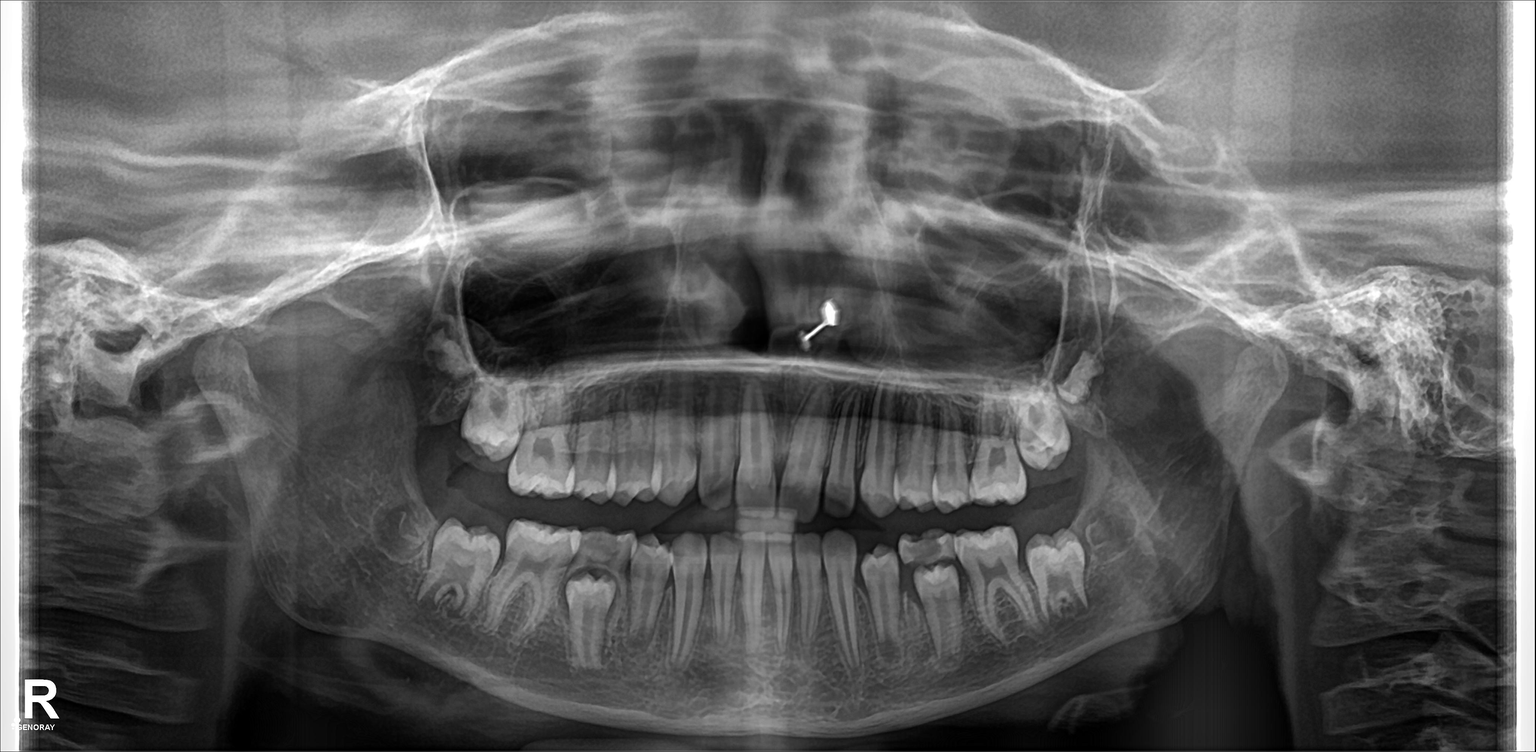Impacted Third Molar: (372, 471, 429, 578)
Missing Tooth: (415, 361, 463, 444)
